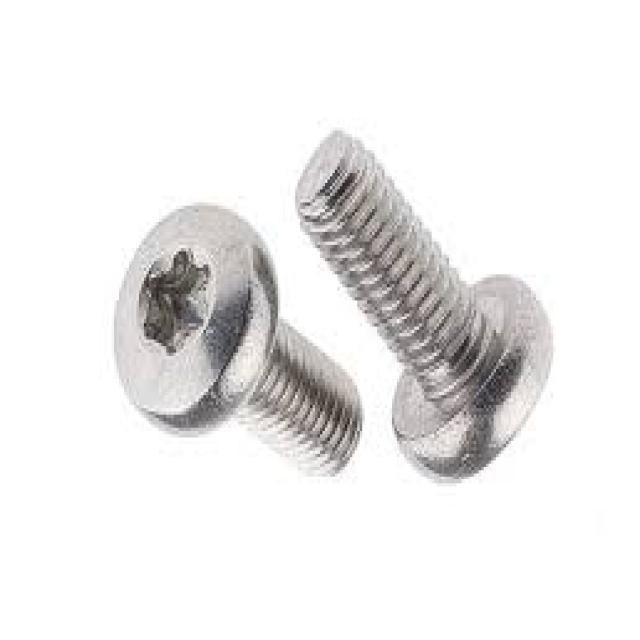torx: (111, 202, 279, 440)
